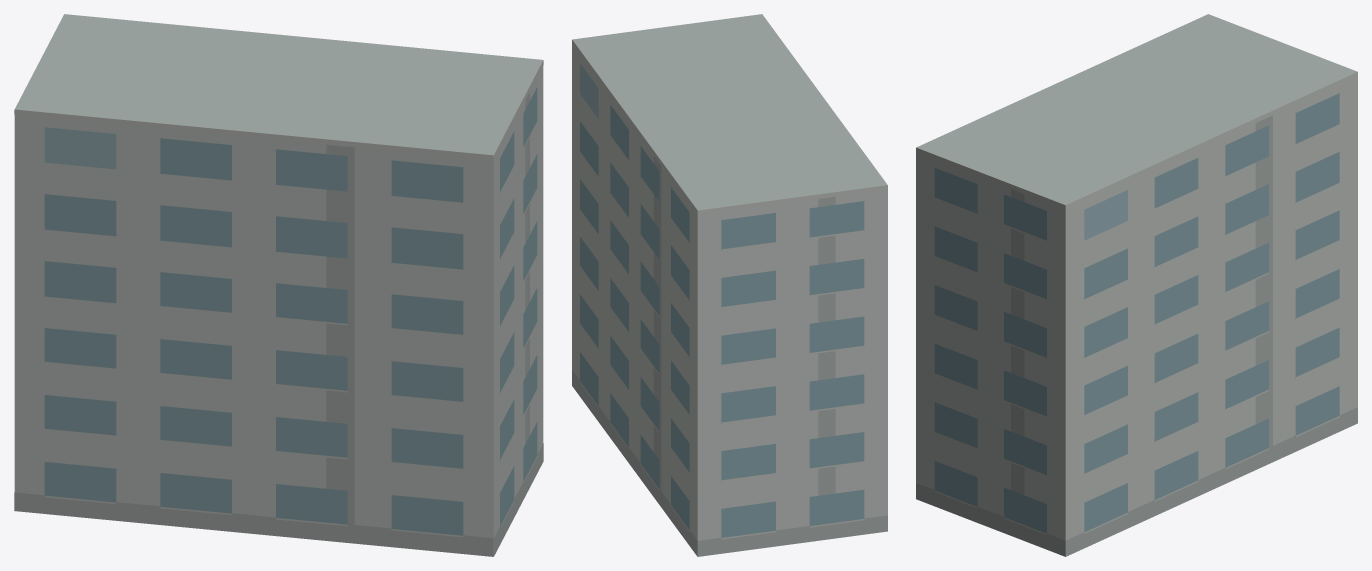
File: survey-upis-32852525.glb
3 renders of one model, left to right at view 1: azimuth 30°, elevation 25°; view 2: azimuth 150°, elevation 25°; view 3: azimuth 270°, elevation 25°, orthographic. The views are drawn at different scales.
Parts seen in each view (by area): view 1: survey-upis-32852525.tmp; view 2: survey-upis-32852525.tmp; view 3: survey-upis-32852525.tmp.
Boxes of the visible parts, x1=… form: survey-upis-32852525.tmp: x1=14, y1=14, x2=543, y2=556; survey-upis-32852525.tmp: x1=572, y1=14, x2=887, y2=556; survey-upis-32852525.tmp: x1=916, y1=14, x2=1357, y2=556.
Bounding box in the file's own units: 21.35 × 18.3 × 20.84.
